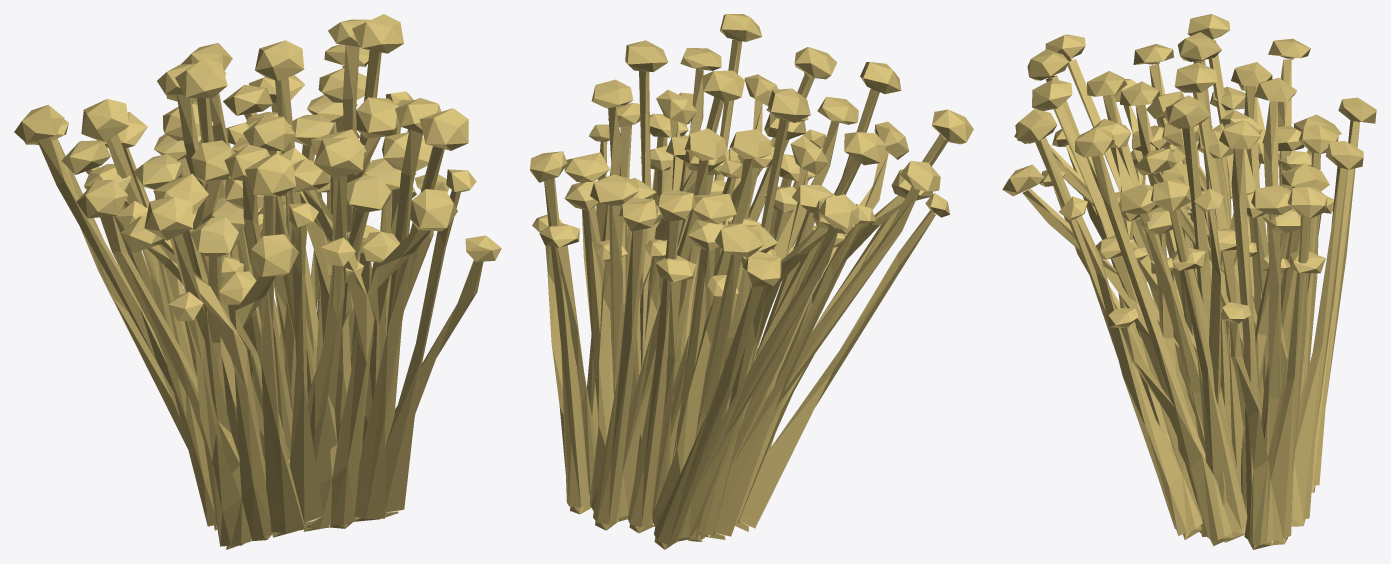
Rendered from P_Jingzhenggu_03.obj.
3 renders of one model, left to right at view 1: azimuth 30°, elevation 25°; view 2: azimuth 150°, elevation 25°; view 3: azimuth 270°, elevation 25°, orthographic. The views are drawn at different scales.
Size of the model in its own units: 0.8243 by 0.9764 by 0.7475.
Materials: 24 (24 with a texture image).
